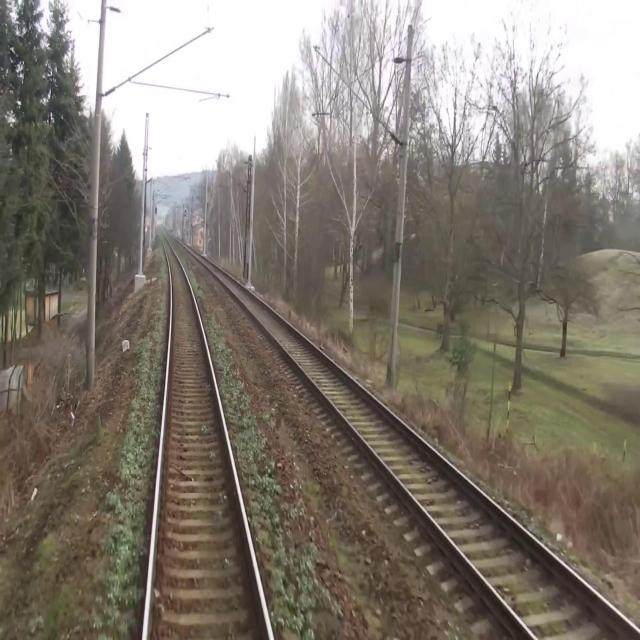rail-track: (166, 228, 640, 639), (146, 227, 269, 639)
